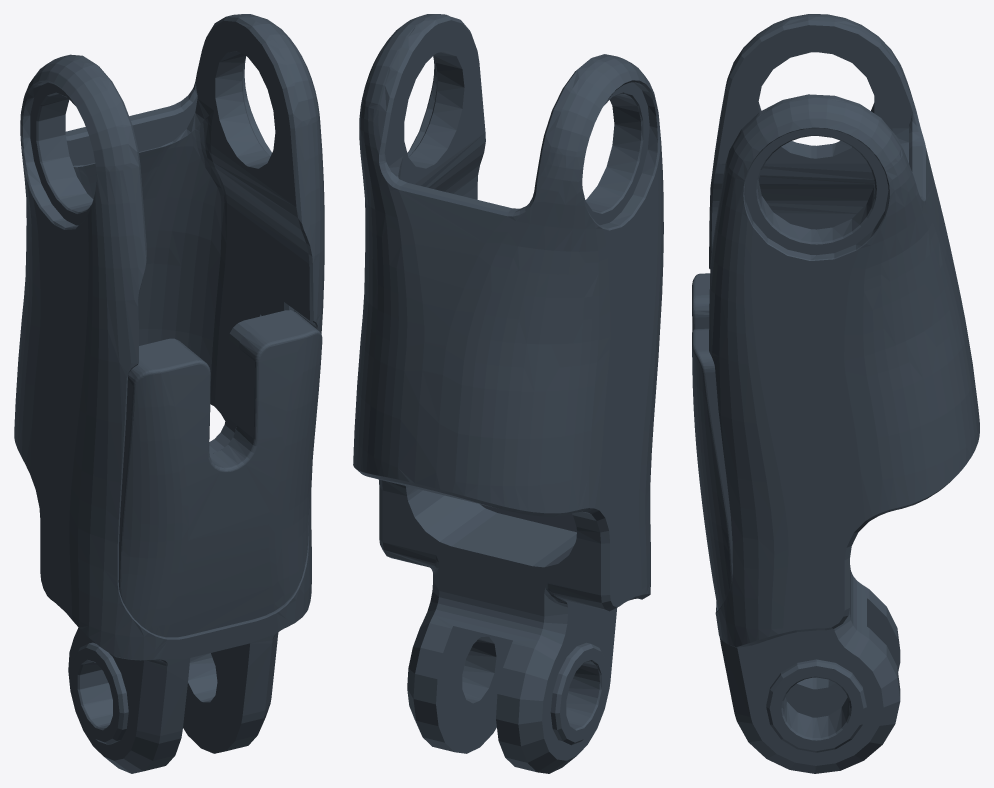
File: if_mcp_pitch_link.glb
The picture shows the model from 3 angles, left to right: view 1: azimuth 30°, elevation 25°; view 2: azimuth 150°, elevation 25°; view 3: azimuth 270°, elevation 25°; orthographic projection. The views are drawn at different scales.
Parts seen in each view (by area): view 1: if_mcp_pitch; view 2: if_mcp_pitch; view 3: if_mcp_pitch.
Part boxes in pixels (box(x1,y1,x2,y2)): if_mcp_pitch: box(14, 14, 324, 773); if_mcp_pitch: box(353, 14, 663, 773); if_mcp_pitch: box(692, 14, 979, 773).
Bounding box in the file's own units: 0.0154 × 0.0455 × 0.0171.
